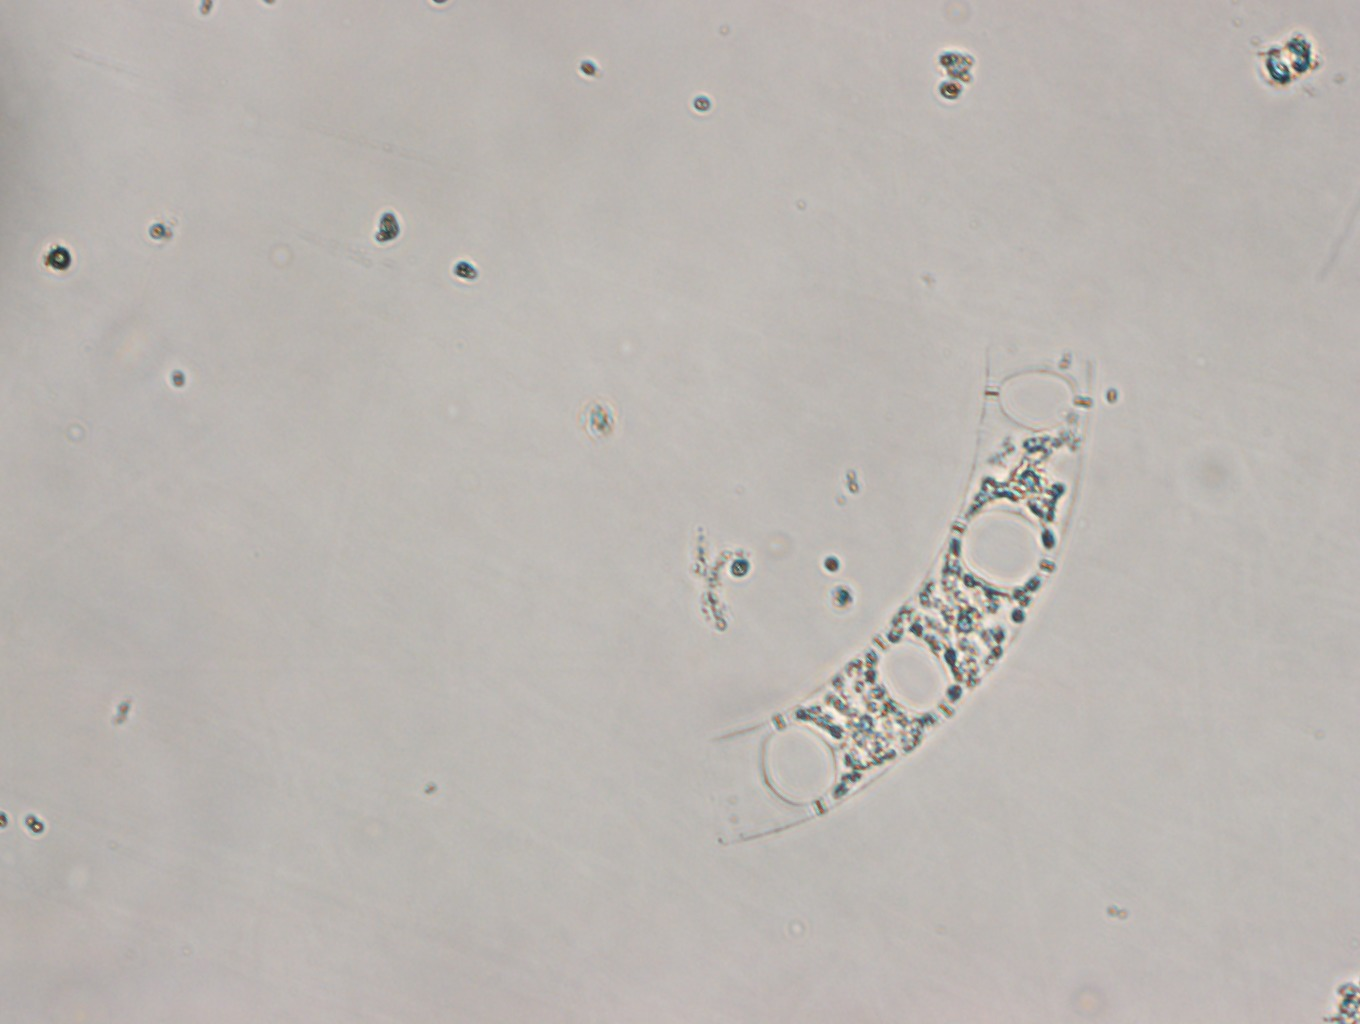eucampia: (712, 345, 1096, 848)
